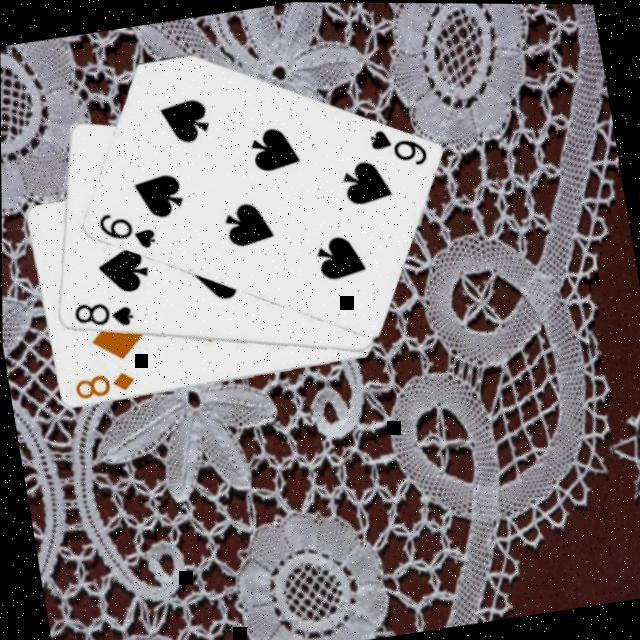6S: (363, 118, 431, 175), (92, 202, 158, 257)
8D: (68, 366, 137, 402)
8S: (68, 292, 137, 336)
